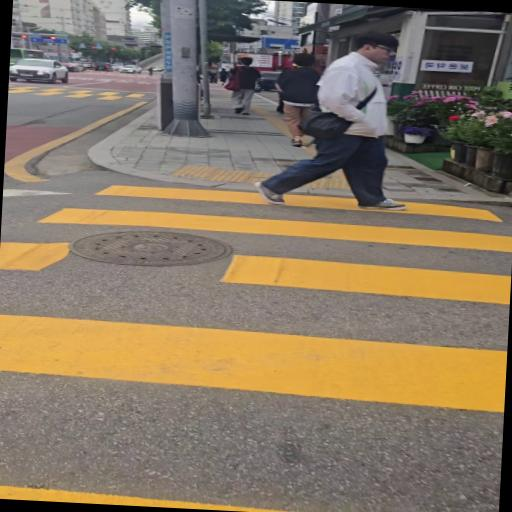yellow-crosswalk: (0, 166, 512, 512), (8, 75, 161, 110)
